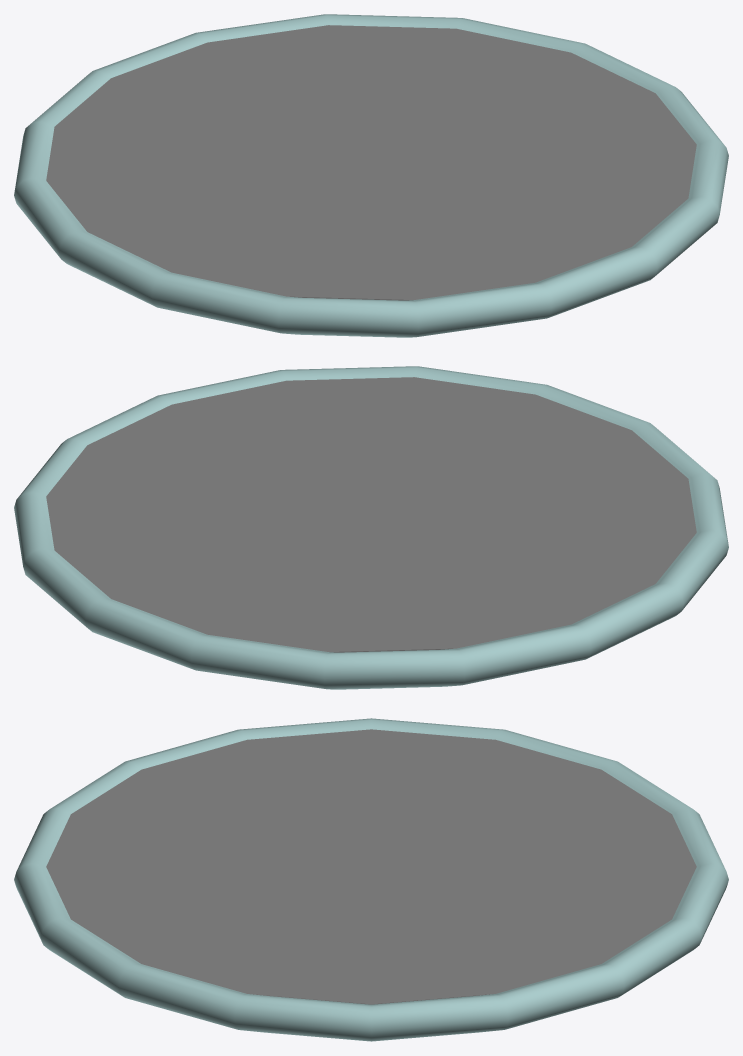
Rendered from LastLuna_Model_Station_Glass_Watch_Glass.fbx.
3 views of the same model, one above another, from view 1: azimuth 30°, elevation 25°; view 2: azimuth 150°, elevation 25°; view 3: azimuth 270°, elevation 25° (orthographic).
Parts seen in each view (by area): view 1: Watch_Glass_Content001, Watch_Glass001; view 2: Watch_Glass_Content001, Watch_Glass001; view 3: Watch_Glass_Content001, Watch_Glass001.
Part boxes in pixels (x1,y1,x2,y2): Watch_Glass_Content001: [46, 25, 696, 300]; Watch_Glass001: [14, 14, 728, 337]; Watch_Glass_Content001: [46, 377, 696, 652]; Watch_Glass001: [14, 366, 728, 689]; Watch_Glass_Content001: [46, 729, 696, 1004]; Watch_Glass001: [14, 718, 728, 1041].
Size of the model in its own units: 100 by 16.98 by 100.
